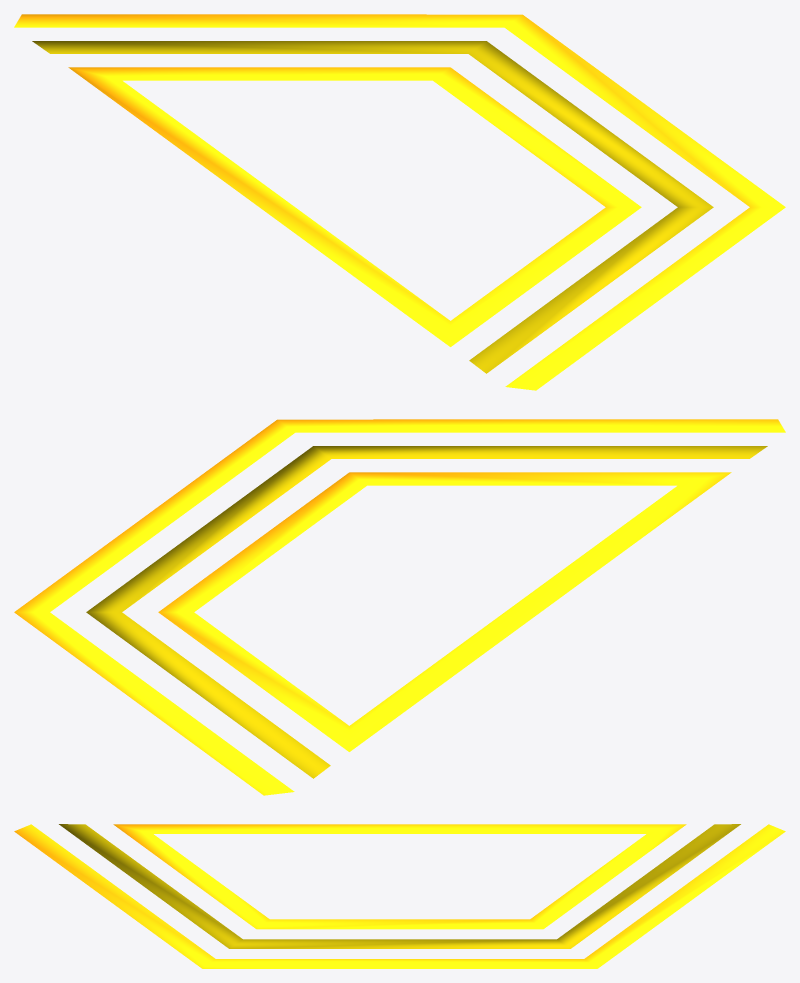
Rendered from mesh_Factory_Hockey_GoalLines.fbx.
3 views of the same model, one above another, from view 1: azimuth 30°, elevation 25°; view 2: azimuth 150°, elevation 25°; view 3: azimuth 270°, elevation 25° (orthographic). The views are drawn at different scales.
Parts seen in each view (by area): view 1: mesh_Factory_Hockey_GoalLines; view 2: mesh_Factory_Hockey_GoalLines; view 3: mesh_Factory_Hockey_GoalLines.
Boxes of the visible parts, x1,y1,x2,y2 form: mesh_Factory_Hockey_GoalLines: [14, 14, 785, 390]; mesh_Factory_Hockey_GoalLines: [14, 419, 785, 795]; mesh_Factory_Hockey_GoalLines: [14, 824, 785, 968].
Size of the model in its own units: 6.67 by 6.49e-07 by 15.04.
